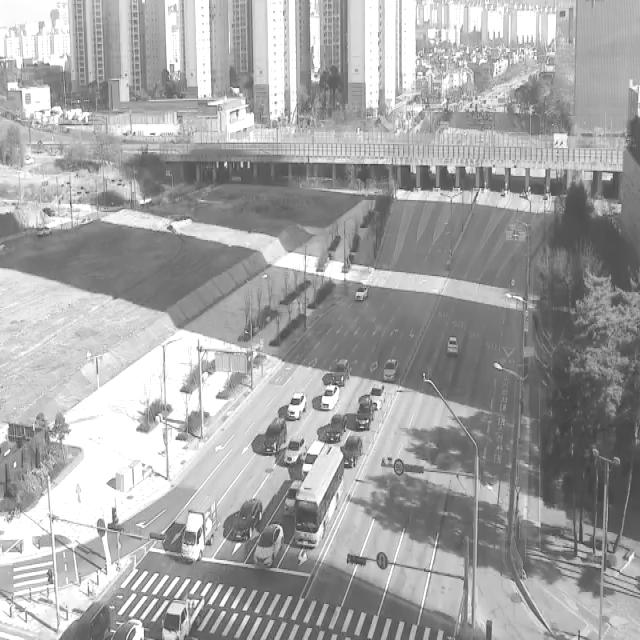Bus: (294, 445, 345, 546)
Car: (180, 497, 218, 564), (58, 601, 115, 640), (162, 596, 206, 640), (253, 523, 284, 567), (232, 499, 263, 540), (301, 441, 326, 479), (263, 420, 288, 454), (108, 618, 145, 640), (284, 481, 304, 516), (355, 395, 375, 430), (284, 436, 306, 466), (342, 436, 363, 467), (286, 393, 306, 420), (327, 414, 347, 441), (333, 358, 352, 386), (320, 385, 340, 410), (369, 384, 386, 409), (383, 358, 399, 381), (447, 336, 458, 355), (354, 287, 368, 301)
